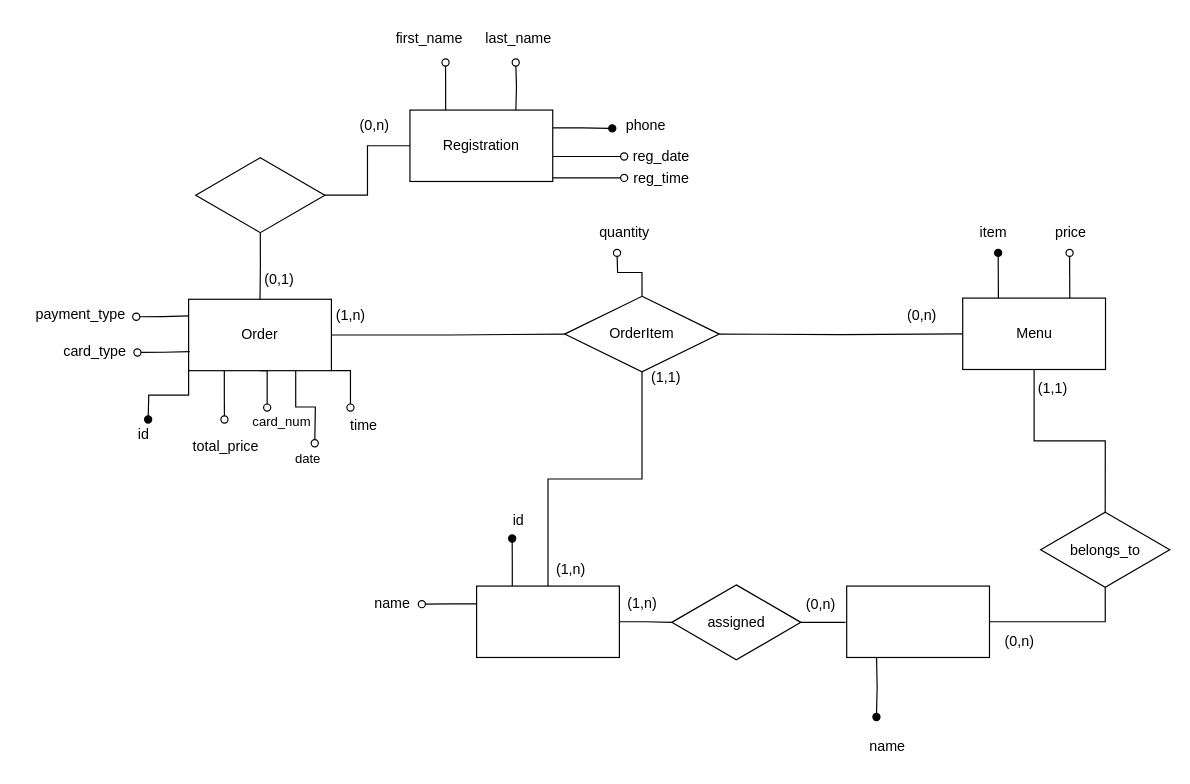
This 1190x784 diagram has some shape labels left out. Here are the shapes that lost their labels. From the top down, the box of each, then its label:
(195, 156, 325, 233): ordered_by
(475, 585, 619, 657): Staff
(845, 585, 989, 657): Cuisine
